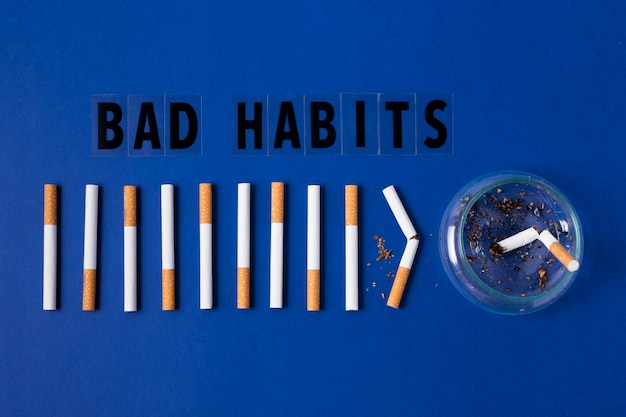cigarette: (379, 183, 420, 309), (494, 218, 582, 272), (80, 184, 102, 312), (342, 184, 361, 313), (159, 183, 178, 312), (266, 181, 284, 310), (41, 183, 59, 312), (305, 184, 323, 311), (121, 184, 139, 311), (196, 182, 214, 308), (235, 179, 252, 311)
